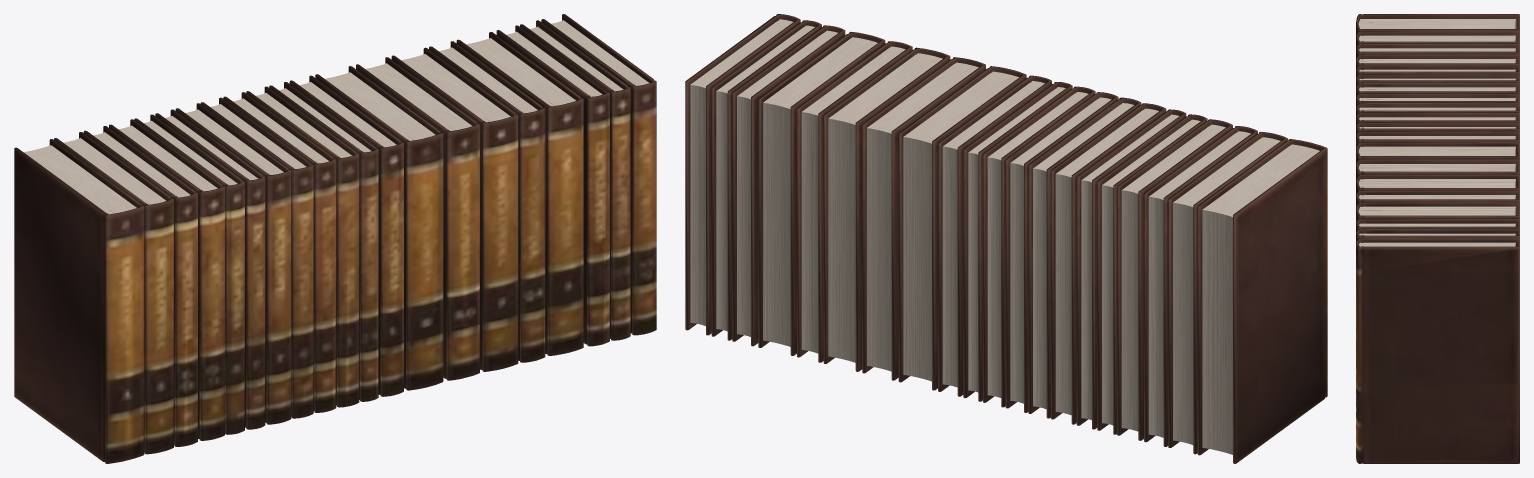
File: books.glb
3 views of the same model, side by side, from view 1: azimuth 30°, elevation 25°; view 2: azimuth 150°, elevation 25°; view 3: azimuth 270°, elevation 25° (orthographic). The views are drawn at different scales.
Parts seen in each view (by area): view 1: book_encyclopedia_set_01_book01; view 2: book_encyclopedia_set_01_book01; view 3: book_encyclopedia_set_01_book01.
Boxes of the visible parts, <box> form: book_encyclopedia_set_01_book01: <box>14,14,656,463</box>; book_encyclopedia_set_01_book01: <box>685,14,1327,463</box>; book_encyclopedia_set_01_book01: <box>1356,14,1519,463</box>.
Size of the model in its own units: 0.5513 by 0.2374 by 0.1631.
2 materials, 2 textured.
